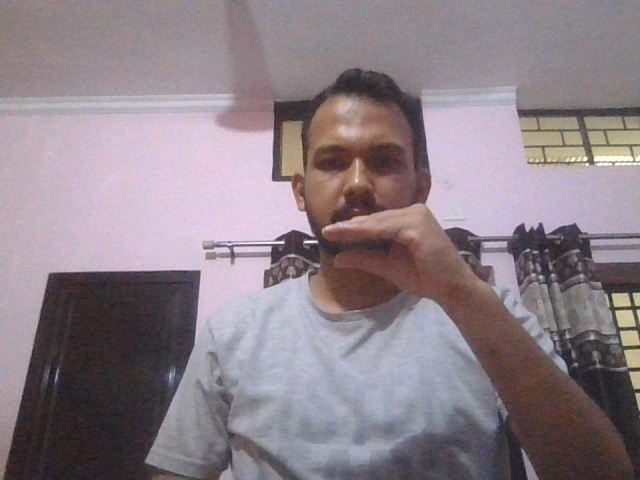no: (322, 202, 499, 302)
